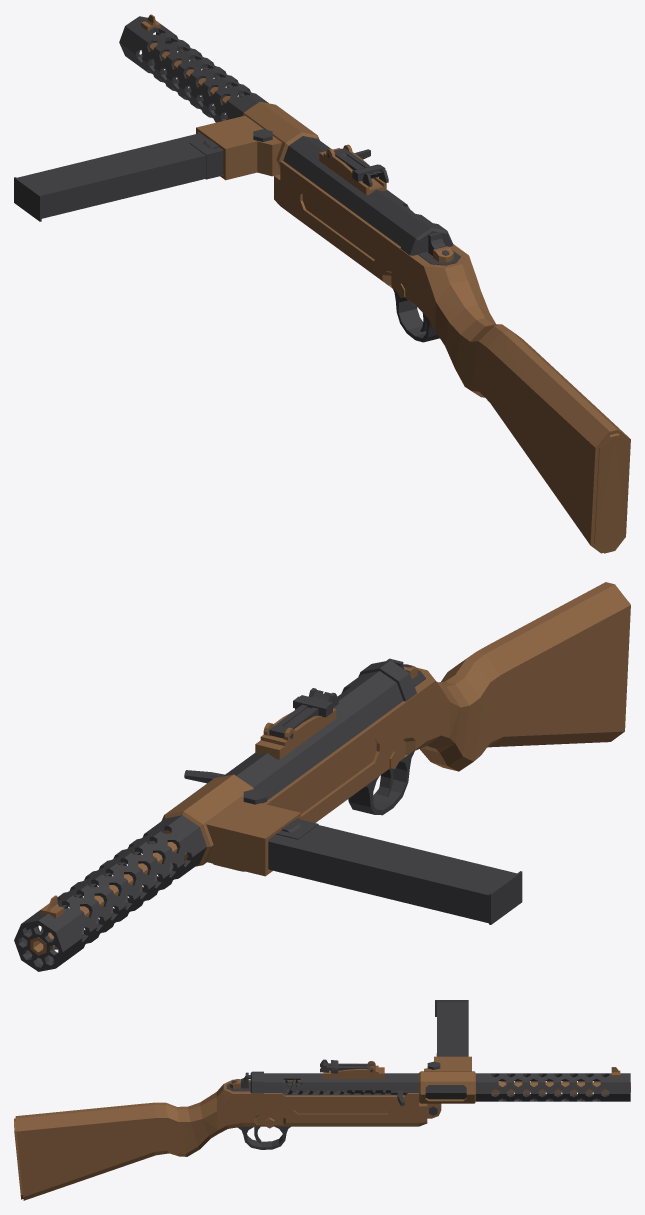
3 renders of one model, top to bottom at view 1: azimuth 30°, elevation 25°; view 2: azimuth 150°, elevation 25°; view 3: azimuth 270°, elevation 25°, orthographic. The views are drawn at different scales.
Parts seen in each view (by area): view 1: mp28; view 2: mp28; view 3: mp28.
Part boxes in pixels (box(x1,y1,x2,y2)): mp28: box(14, 14, 630, 553); mp28: box(14, 582, 630, 971); mp28: box(14, 1000, 630, 1200).
Bounding box in the file's own units: 0.3004 × 0.1978 × 0.812.
